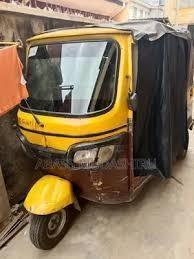keke: (15, 19, 194, 250), (3, 27, 192, 235)
